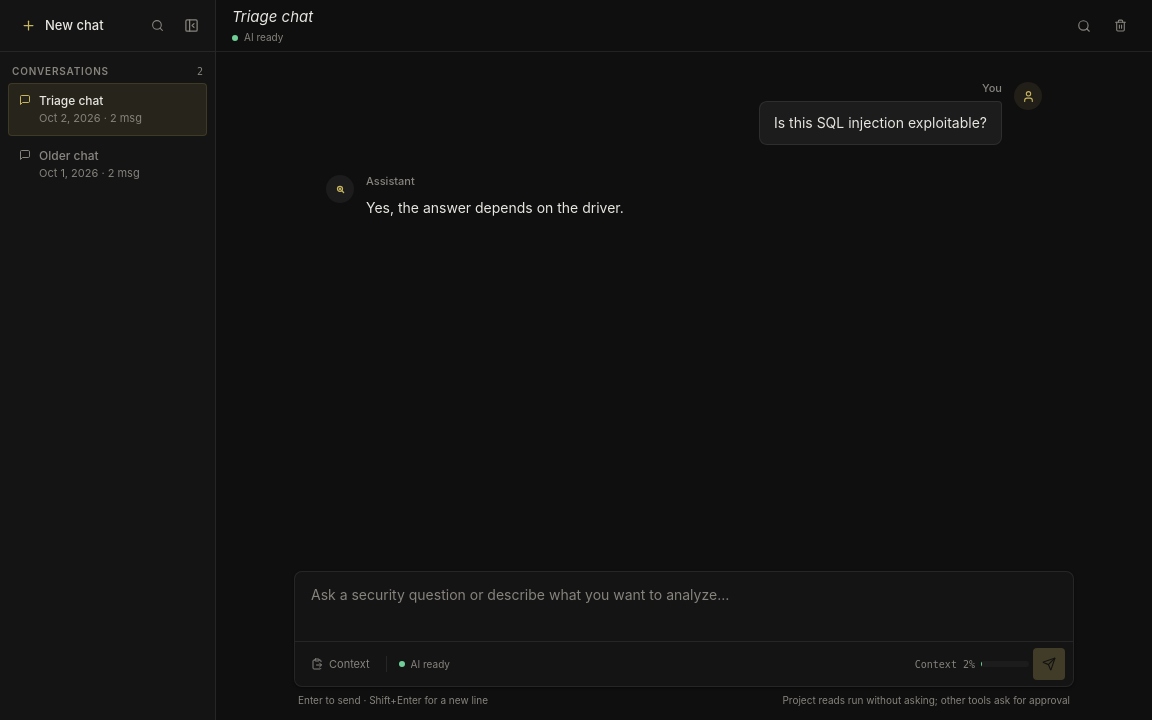
Scenario: sessions › New chat creates and opens an empty conversation
This screenshot has width=1152, height=720.
Expected: the text "Yes, the answer depends on the driver." is shown, x1=366 y1=199 x2=624 y2=216
Expected: the text box named "Message the AI Assistant" is enabled, x1=295 y1=572 x2=1073 y2=641
Click the button "New chat" at {"x": 74, "y": 26}, box x1=10 y1=8 x2=137 y2=42
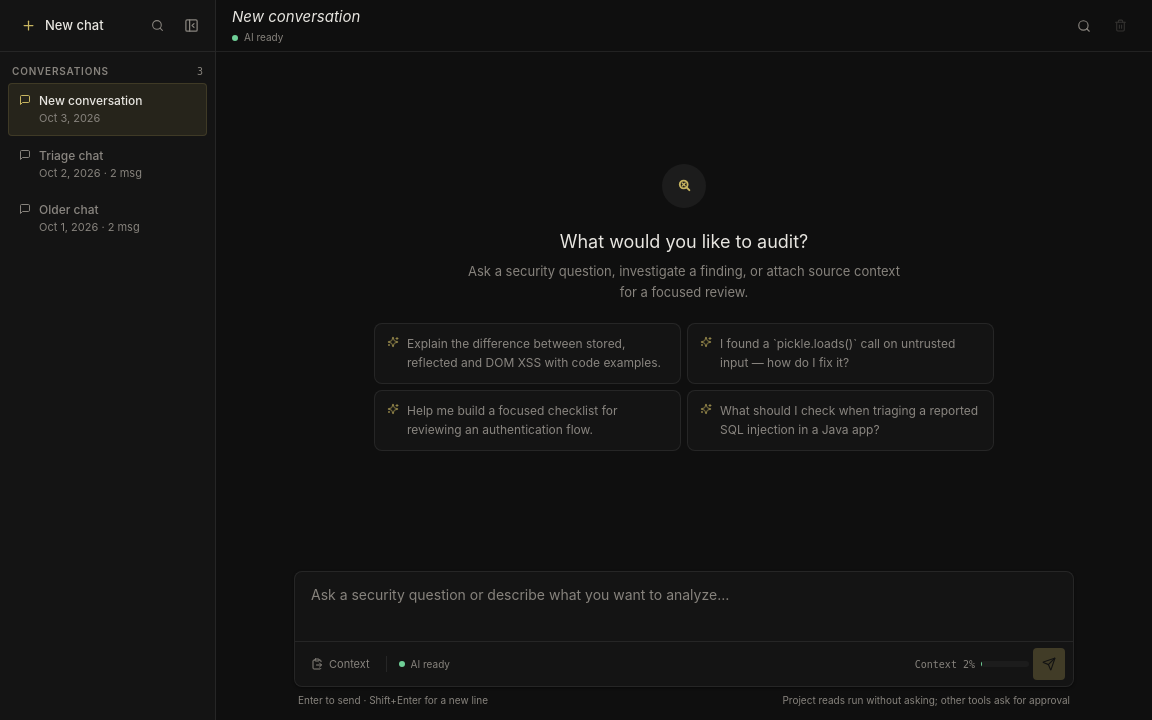
Expected: the 1st heading named "New conversation" is shown, x1=232 y1=7 x2=360 y2=26
Expected: the 2nd heading "What would you like to audit?" is shown, x1=560 y1=231 x2=808 y2=252
